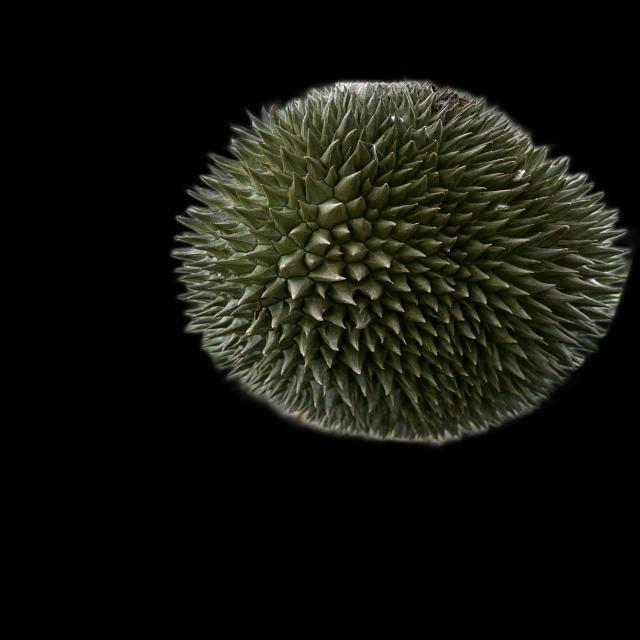immature: (165, 71, 631, 447)
